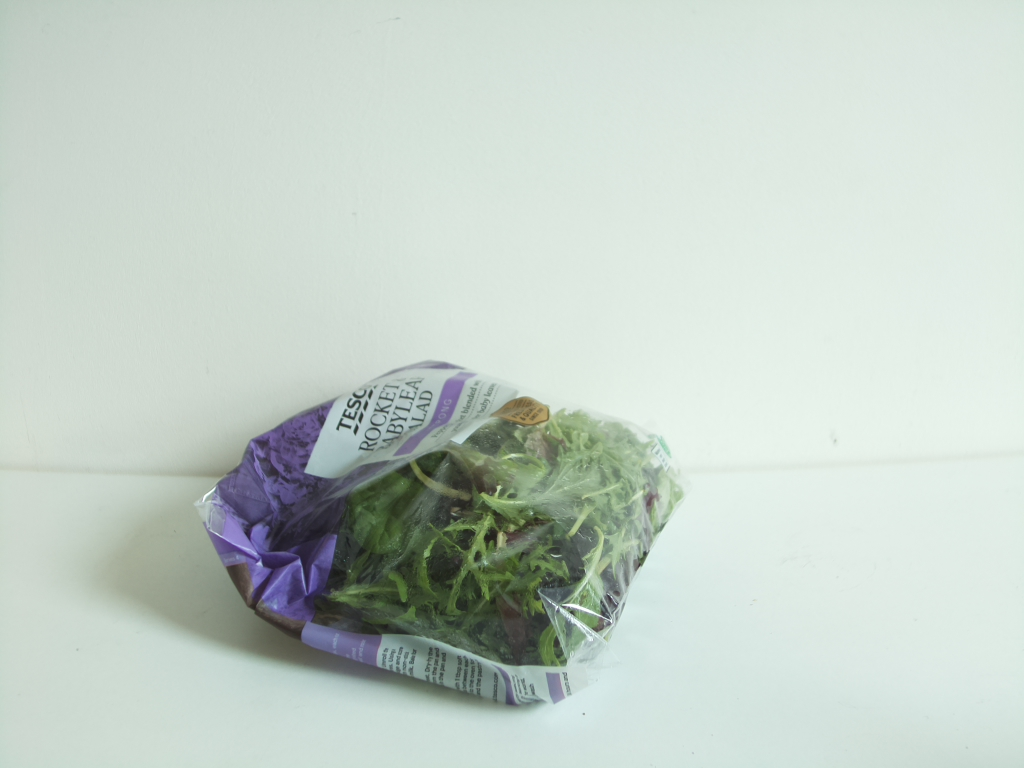salad: (194, 361, 684, 703)
